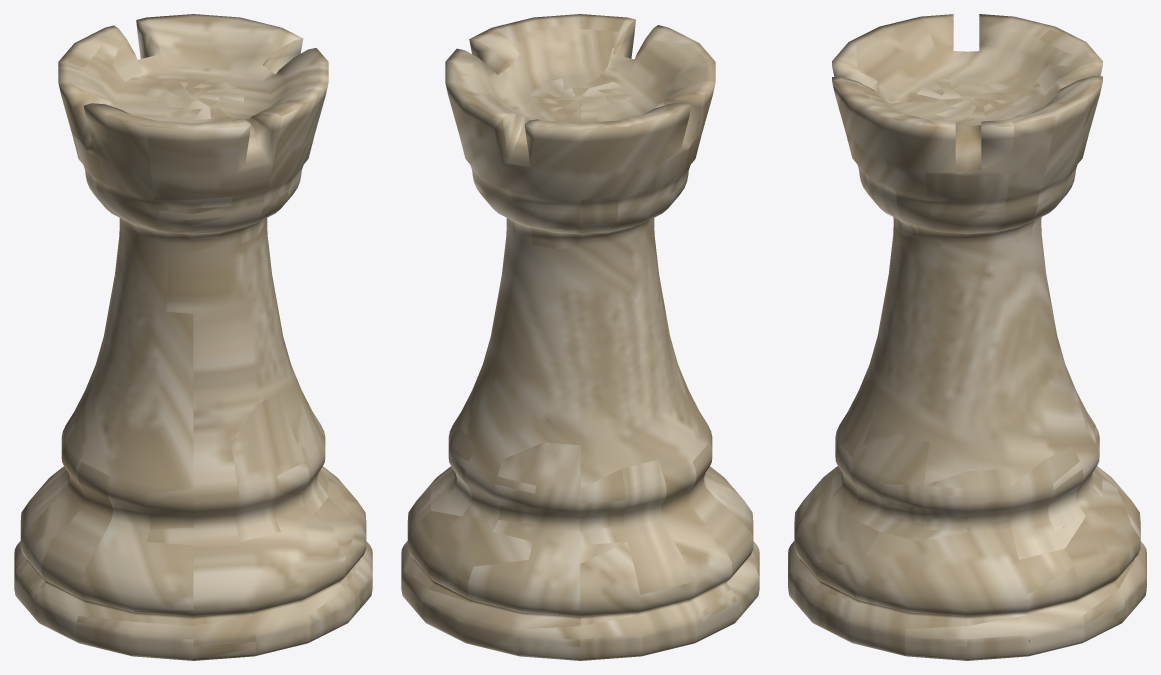
Rendered from torreBlanca.obj.
3 views of the same model, side by side, from view 1: azimuth 30°, elevation 25°; view 2: azimuth 150°, elevation 25°; view 3: azimuth 270°, elevation 25° (orthographic).
Visible parts, largest first — view 1: body; view 2: body; view 3: body.
Part boxes in pixels (box(x1,y1,x2,y2)): body: box(14, 14, 372, 660); body: box(401, 14, 759, 660); body: box(788, 14, 1146, 660).
Bounding box in the file's own units: 1.66 × 2.6 × 1.63.
Materials: 1 (1 with a texture image).
